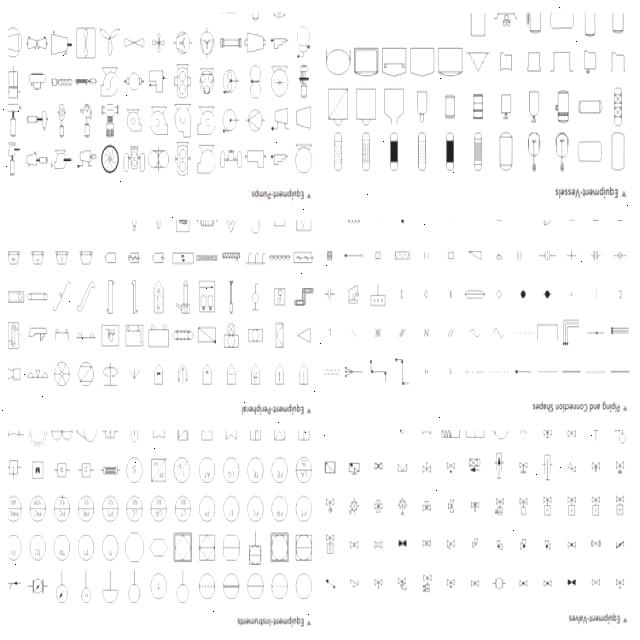Angle Blowdown: (438, 533, 455, 551)
Angle GlobeValve: (538, 538, 554, 556), (513, 534, 527, 554), (496, 535, 508, 552)
Angle Valve: (471, 533, 482, 552)
Ball Valve: (368, 534, 388, 555), (415, 534, 435, 550)
Butterfly Valve: (610, 533, 630, 558)
Check Valve: (346, 578, 366, 590)
Closed Gate Valve: (563, 577, 580, 591)
Cock Valve: (371, 572, 386, 594)
Gate Valve: (582, 572, 604, 594)
Globe Valve: (516, 572, 532, 593), (541, 576, 554, 594)
Hand Operated Gate Valve: (614, 576, 626, 592)
Needle Valve: (468, 576, 484, 596)
Piston Operated Valve: (422, 570, 436, 598)
Pneumatic-Diaphragm Gate Valve: (444, 572, 458, 597)
Pressure Regulator: (396, 574, 411, 594)
Rotary Meter: (490, 572, 509, 592)
